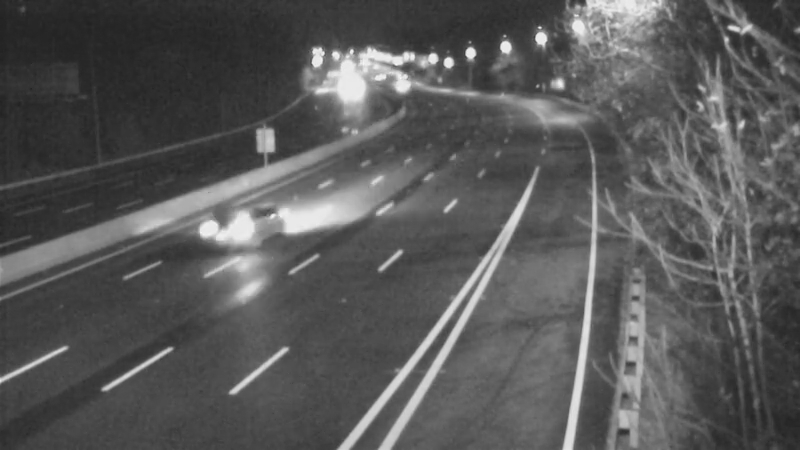vehicle: (199, 185, 279, 265), (377, 53, 427, 103), (374, 61, 424, 111), (320, 68, 370, 118)
